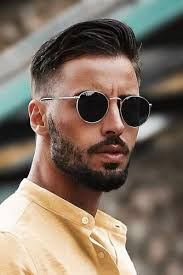b.y: (86, 138, 126, 188)
